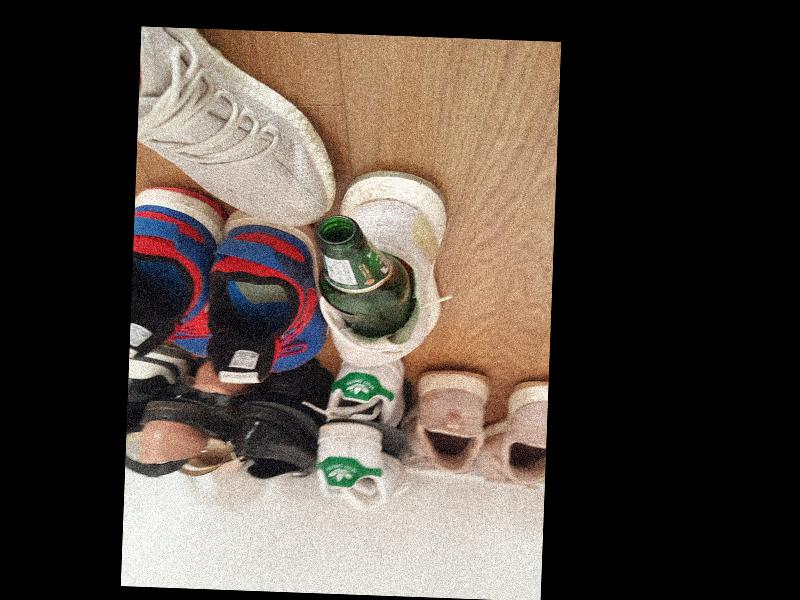Beer: (313, 215, 414, 336)
